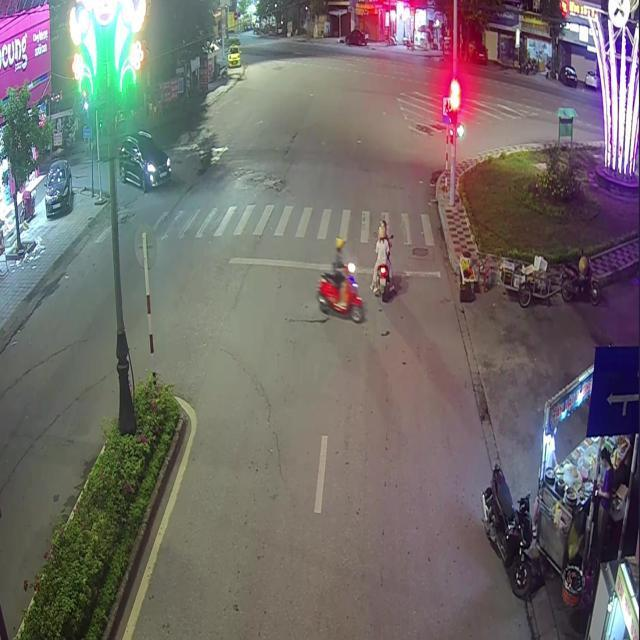motobike: (317, 277, 364, 322), (375, 264, 390, 300)
red_light: (450, 92, 457, 125)
stop_line: (226, 256, 440, 277)
